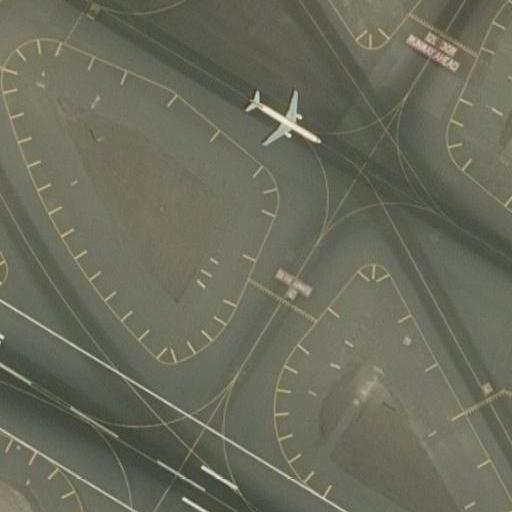Aircraft: (238, 83, 318, 150)
